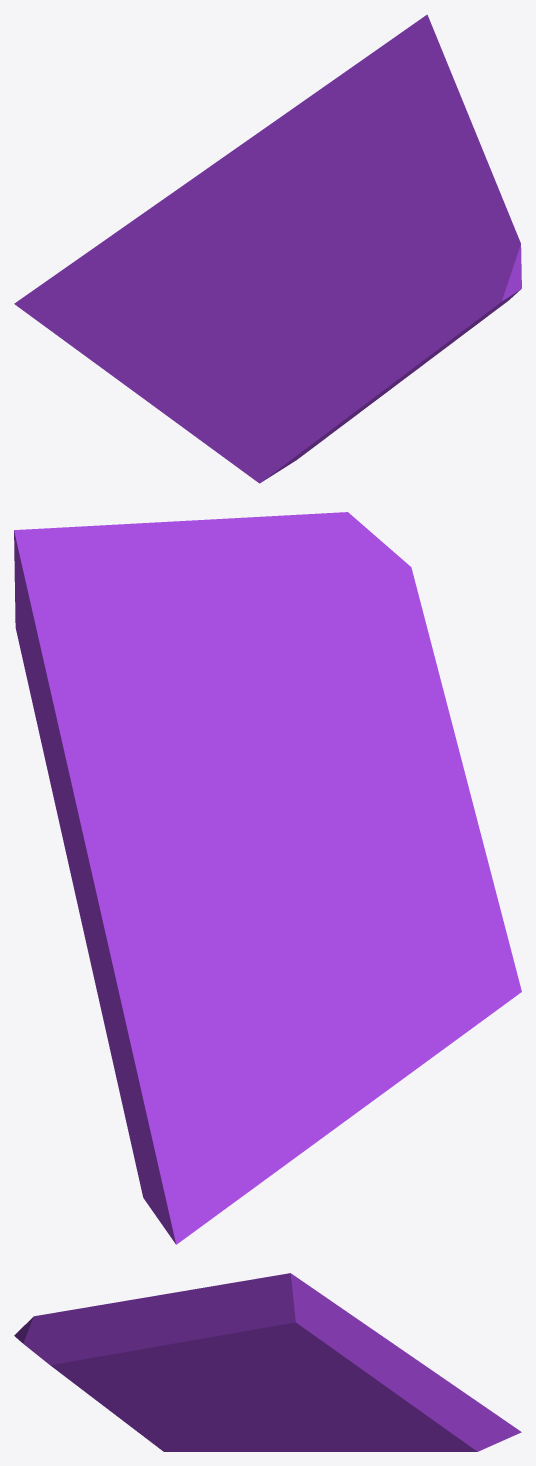
The model's file is Window_117_0_chunks.fbx.
The picture shows the model from 3 angles, top to bottom: view 1: azimuth 30°, elevation 25°; view 2: azimuth 150°, elevation 25°; view 3: azimuth 270°, elevation 25°; orthographic projection. The views are drawn at different scales.
Visible parts, largest first — view 1: Window_117_0_13, Window_117_0_12, Window_117_0_1, Window_117_0_11, Window_117_0_10, Window_117_0_0, Window_117_0_15, Window_117_0_8, Window_117_0_16, Window_117_0_3, Window_117_0_14, Window_117_0_18 (+2 smaller); view 2: Window_117_0_12, Window_117_0_13, Window_117_0_1, Window_117_0_11, Window_117_0_10, Window_117_0_15, Window_117_0_0, Window_117_0_8, Window_117_0_16, Window_117_0_3, Window_117_0_14, Window_117_0_18 (+3 smaller); view 3: Window_117_0_11, Window_117_0_6, Window_117_0_12, Window_117_0_5, Window_117_0_10, Window_117_0_9, Window_117_0_4, Window_117_0_13, Window_117_0_8, Window_117_0_1, Window_117_0_2, Window_117_0_0 (+1 smaller).
Part boxes in pixels (x1=…): Window_117_0_13: x1=256, y1=65, x2=354, y2=330; Window_117_0_12: x1=14, y1=102, x2=301, y2=327; Window_117_0_1: x1=190, y1=328, x2=378, y2=483; Window_117_0_11: x1=354, y1=14, x2=479, y2=188; Window_117_0_10: x1=406, y1=142, x2=521, y2=302; Window_117_0_0: x1=346, y1=276, x2=511, y2=418; Window_117_0_15: x1=47, y1=262, x2=200, y2=392; Window_117_0_8: x1=353, y1=95, x2=421, y2=273; Window_117_0_16: x1=135, y1=315, x2=286, y2=400; Window_117_0_3: x1=290, y1=270, x2=413, y2=361; Window_117_0_14: x1=204, y1=200, x2=257, y2=279; Window_117_0_18: x1=197, y1=260, x2=270, y2=304; Window_117_0_12: x1=57, y1=747, x2=221, y2=1244; Window_117_0_13: x1=38, y1=656, x2=343, y2=896; Window_117_0_1: x1=341, y1=807, x2=521, y2=1063; Window_117_0_11: x1=14, y1=520, x2=229, y2=726; Window_117_0_10: x1=199, y1=512, x2=396, y2=675; Window_117_0_15: x1=213, y1=970, x2=346, y2=1210; Window_117_0_0: x1=336, y1=555, x2=482, y2=839; Window_117_0_8: x1=79, y1=622, x2=322, y2=756; Window_117_0_16: x1=286, y1=880, x2=380, y2=1119; Window_117_0_3: x1=304, y1=677, x2=412, y2=872; Window_117_0_14: x1=164, y1=856, x2=264, y2=959; Window_117_0_18: x1=213, y1=889, x2=301, y2=981; Window_117_0_11: x1=141, y1=1273, x2=331, y2=1359; Window_117_0_6: x1=186, y1=1364, x2=377, y2=1427; Window_117_0_12: x1=345, y1=1321, x2=521, y2=1444; Window_117_0_5: x1=317, y1=1391, x2=493, y2=1451; Window_117_0_10: x1=18, y1=1297, x2=148, y2=1359; Window_117_0_9: x1=44, y1=1347, x2=181, y2=1388; Window_117_0_4: x1=207, y1=1427, x2=355, y2=1451; Window_117_0_13: x1=282, y1=1301, x2=360, y2=1381; Window_117_0_8: x1=181, y1=1347, x2=322, y2=1388; Window_117_0_1: x1=120, y1=1411, x2=213, y2=1451; Window_117_0_2: x1=115, y1=1378, x2=197, y2=1416; Window_117_0_0: x1=14, y1=1331, x2=134, y2=1417.
Bounding box in the file's own units: 515 × 622 × 1104.
